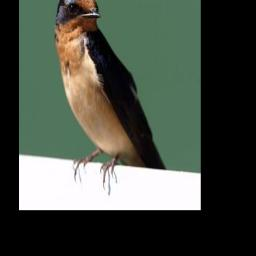Swallow: (56, 0, 167, 188)
